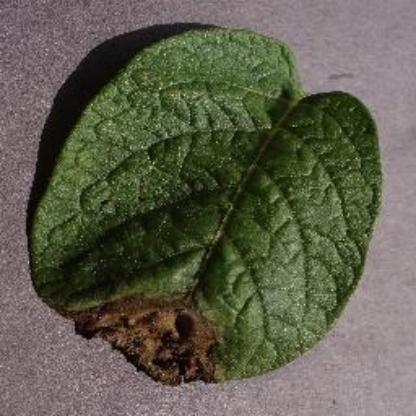Late-Blight: (33, 14, 383, 388)
